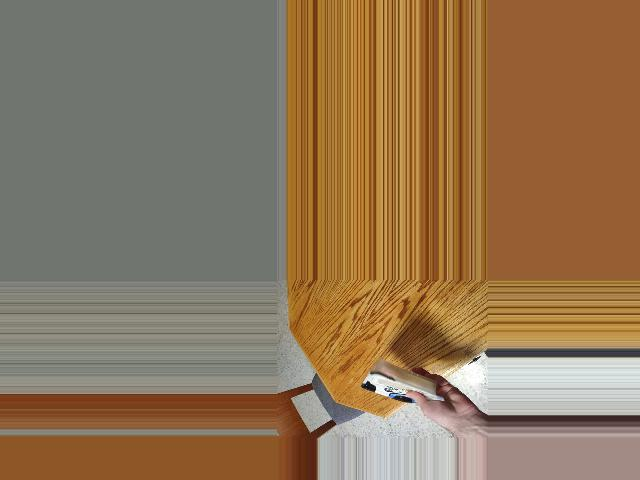cheese: (364, 356, 436, 417)
